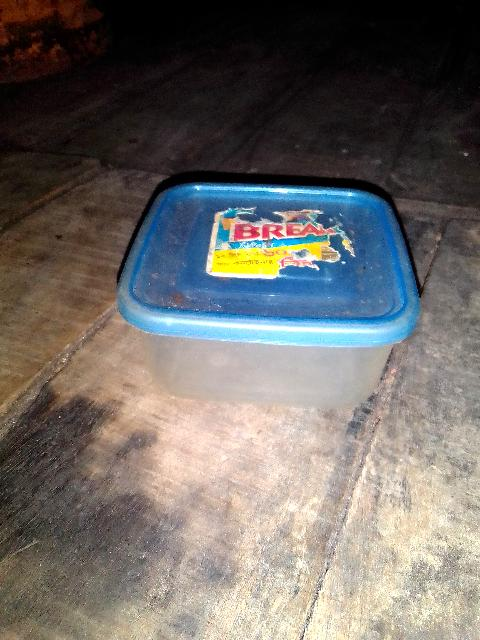hardplastic: (117, 168, 427, 430)
